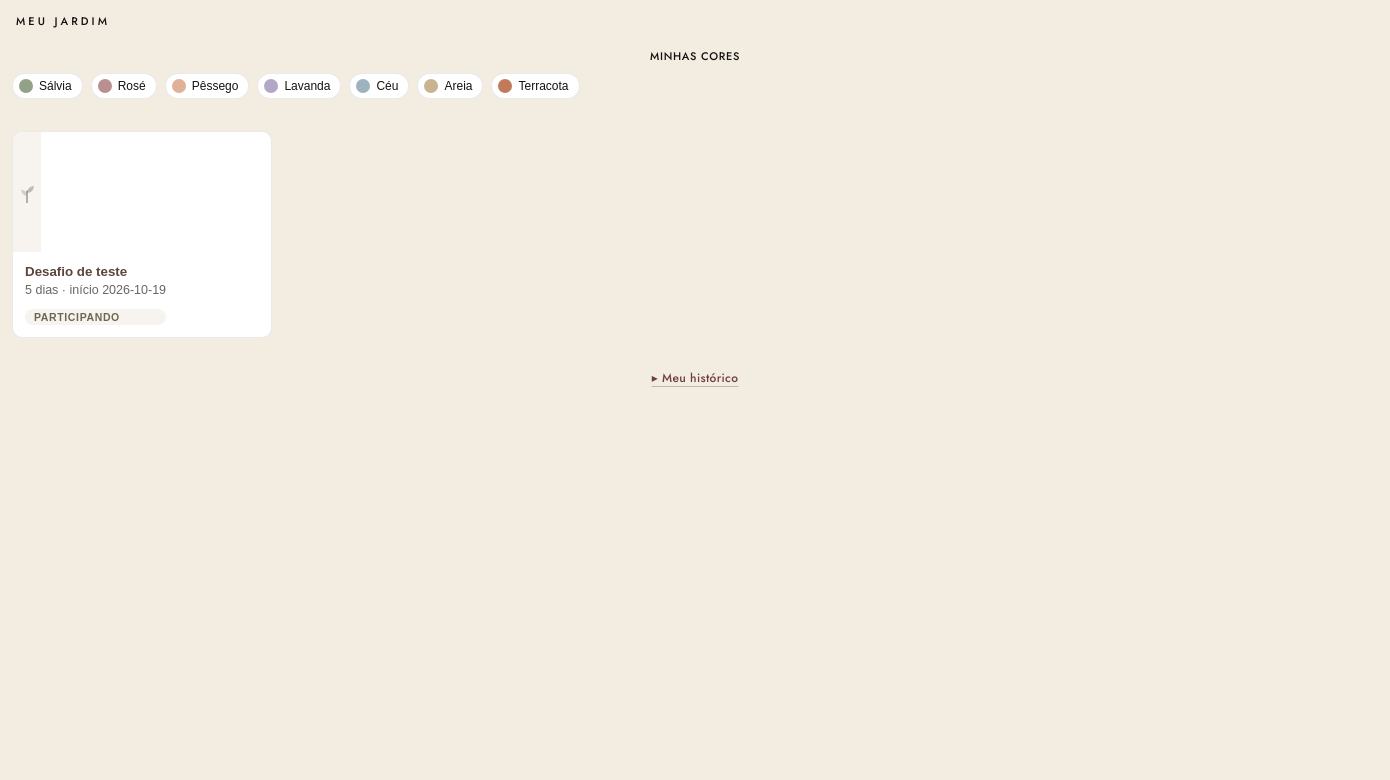
GardenMemberView — Item 4: roda de progresso (dados ao vivo) › mostra a roda e o resumo "X de Y dias" batendo com os dias realmente concluídos
Click the text "Desafio de teste": (76, 272) [25,264,127,279]
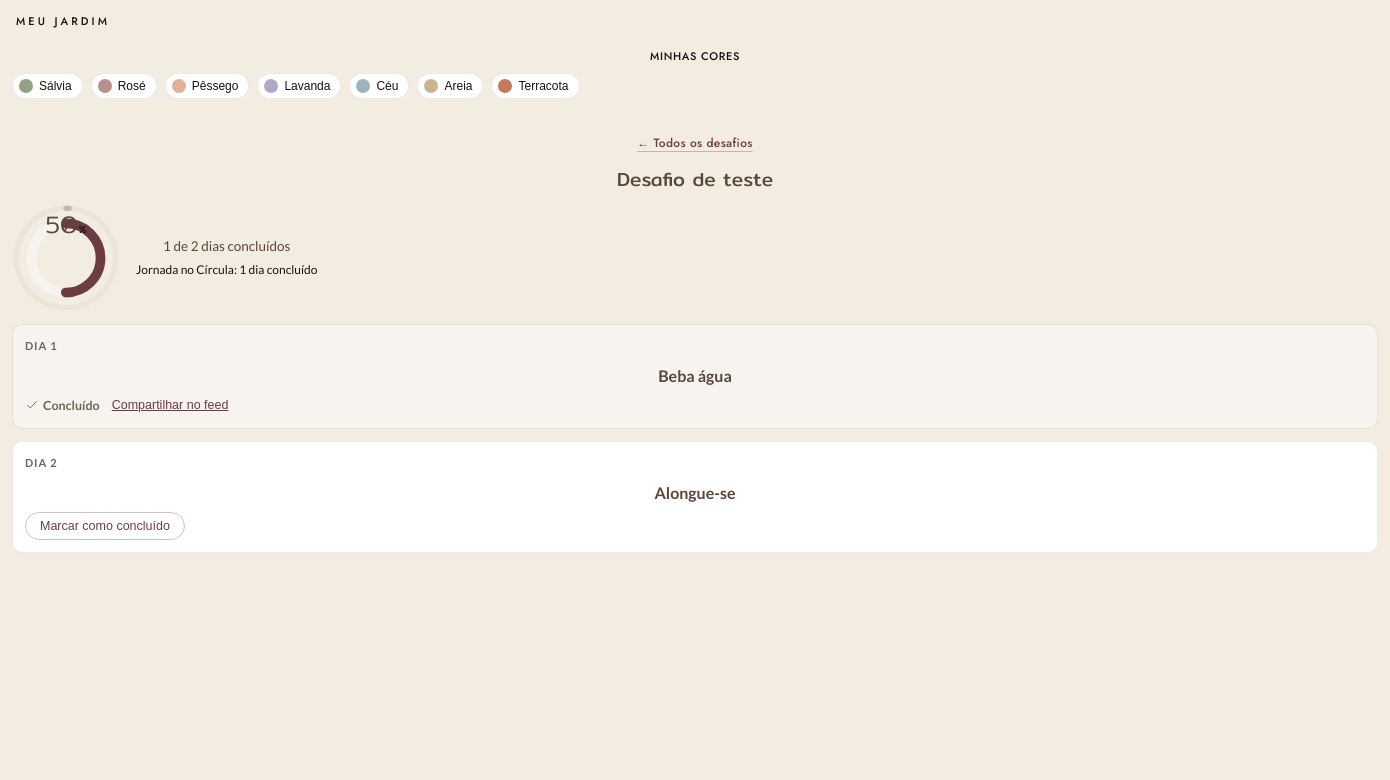
Expected: the text "1 de 2 dias concluídos" is shown, [163,238,290,254]
Expected: the picture named "Desafio atual: 50%, 1 de 2 dias concluídos. Jornada no Círcula: 1 dia concluído." is shown, [12,204,120,312]
